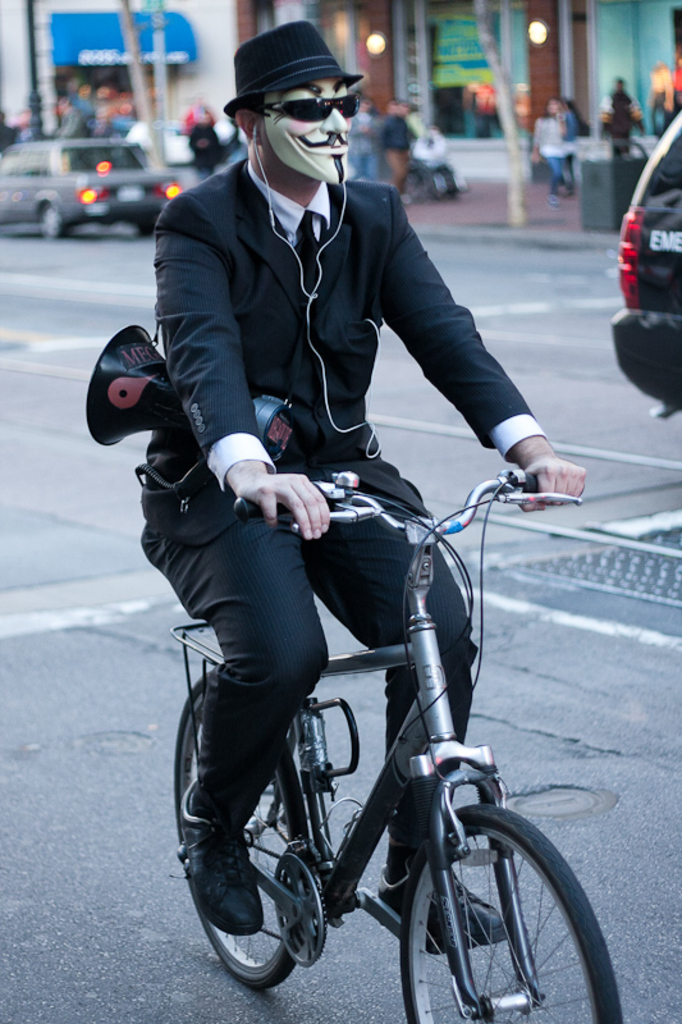Bike: (136, 457, 659, 1024)
